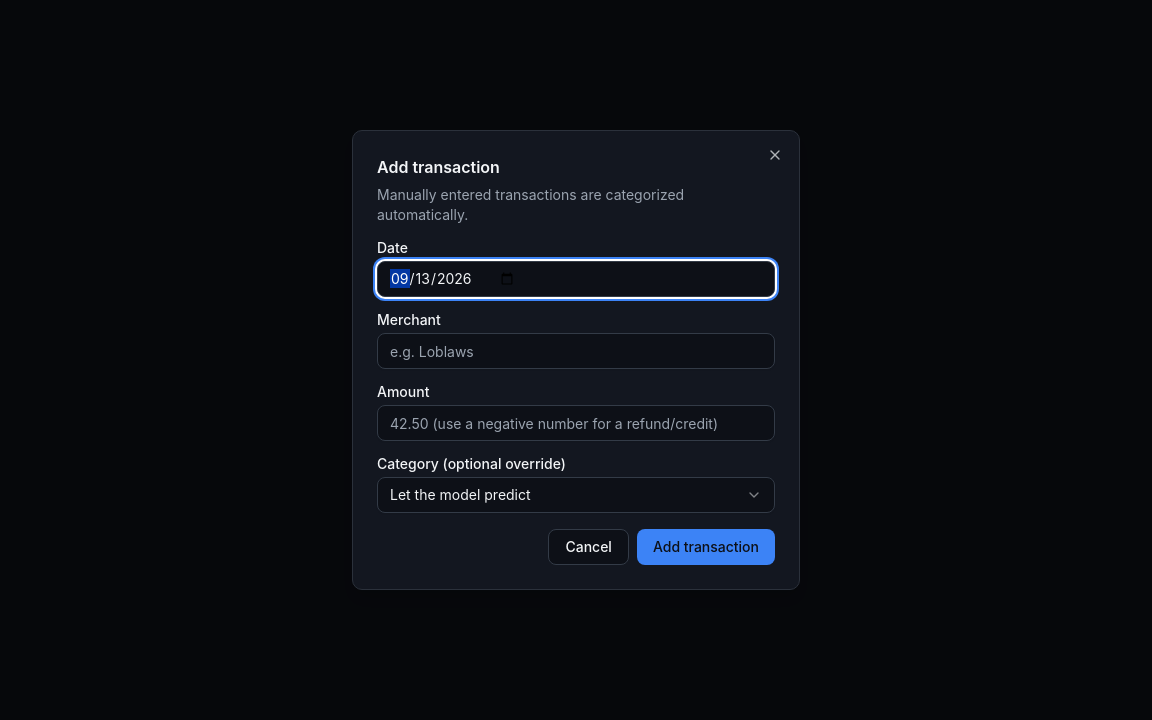
Test: TransactionFormDialog -- manual add category UX › lists every real category as selectable, alongside the default
Click the dropdown: click(460, 494) [377,477,775,513]
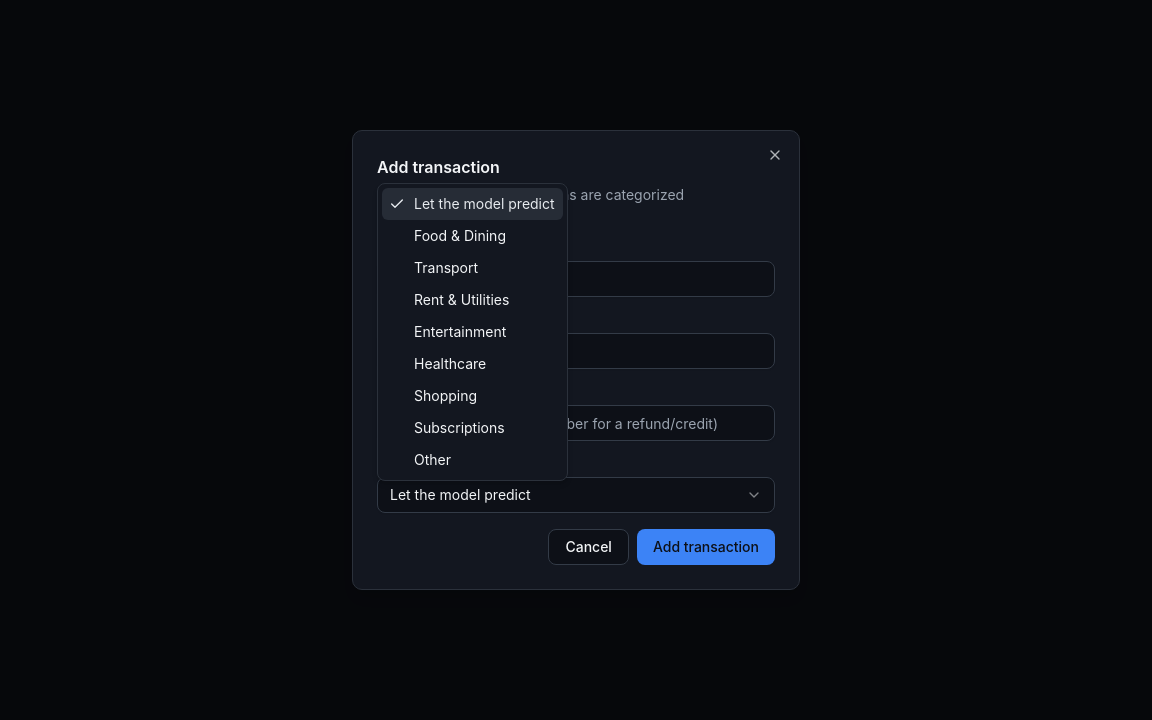
Now the option "Let the model predict" is shown, box [382,188,563,220]
Now the option "Food & Dining" is shown, box [414,227,506,244]
Now the option "Transport" is shown, box [414,259,478,276]
